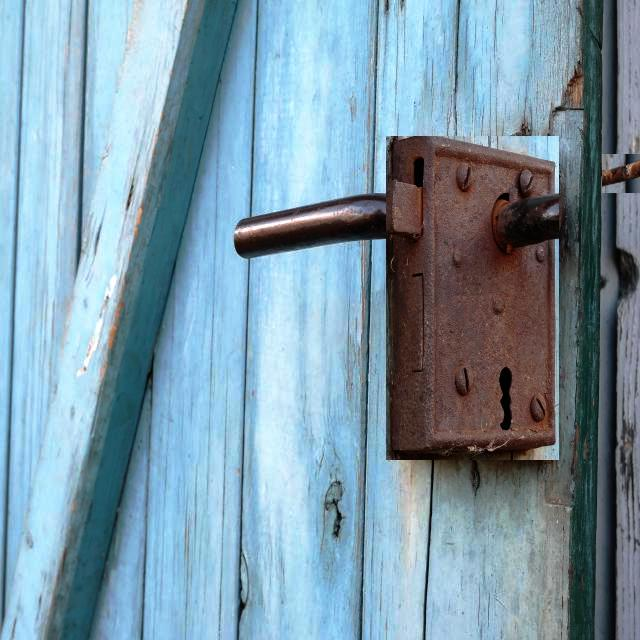Corrosion: (386, 137, 555, 458), (233, 207, 384, 258), (378, 205, 423, 238)
